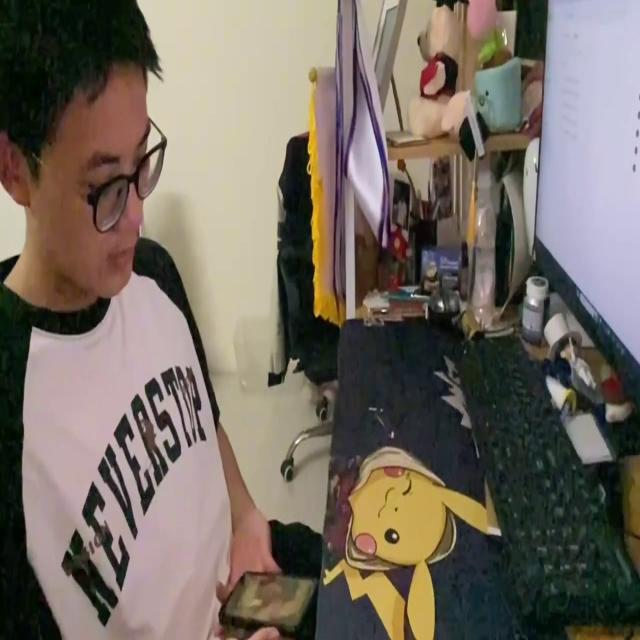laptop: (531, 0, 640, 413)
phone: (215, 560, 315, 640)
student: (1, 0, 316, 640)
